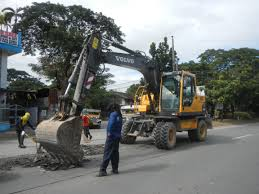excavator: (36, 44, 214, 172)
